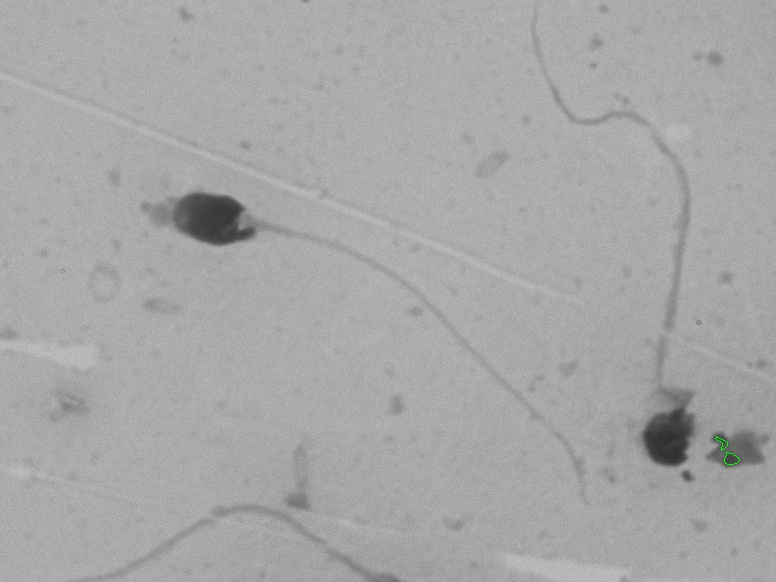Abnormal: (148, 152, 576, 530), (578, 57, 735, 491)
